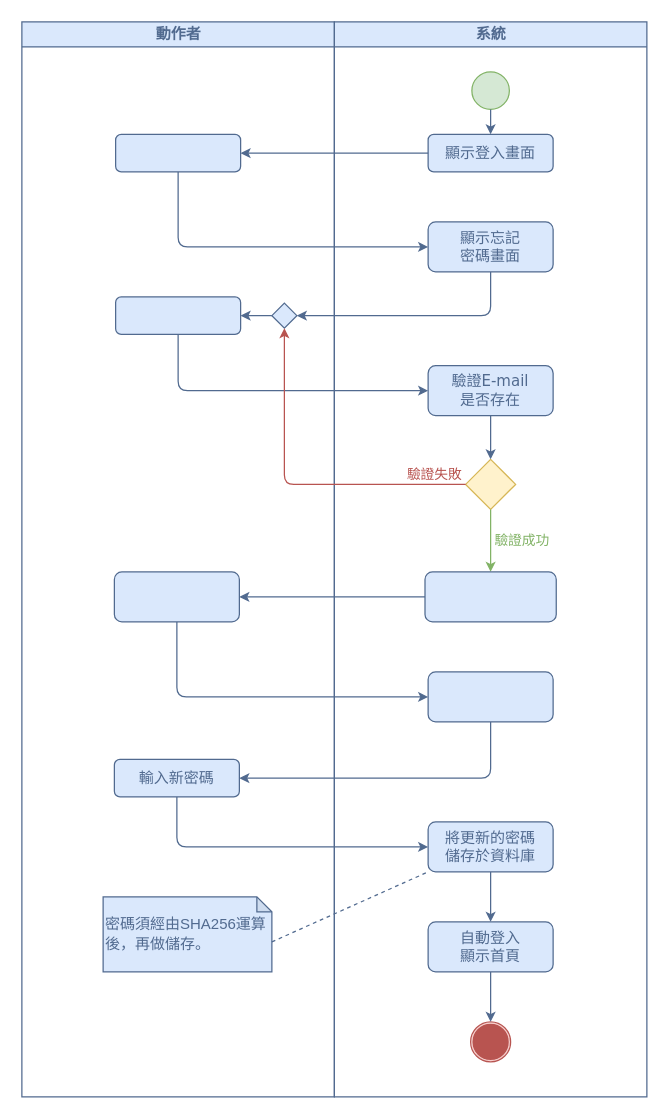
The diagram is 669 pixels wide and 1119 high, and some of its shapes have lost their labels. Here are the shapes that lost their labels. From the top down, the centre of each, then its label:
(x=177, y=152): 點選忘記密碼
(x=177, y=315): 輸入E-mail
(x=176, y=596): 點擊 信箱中的連結
(x=490, y=596): 傳送更改密碼 信件至該信箱
(x=490, y=696): 顯示 更改密碼畫面
